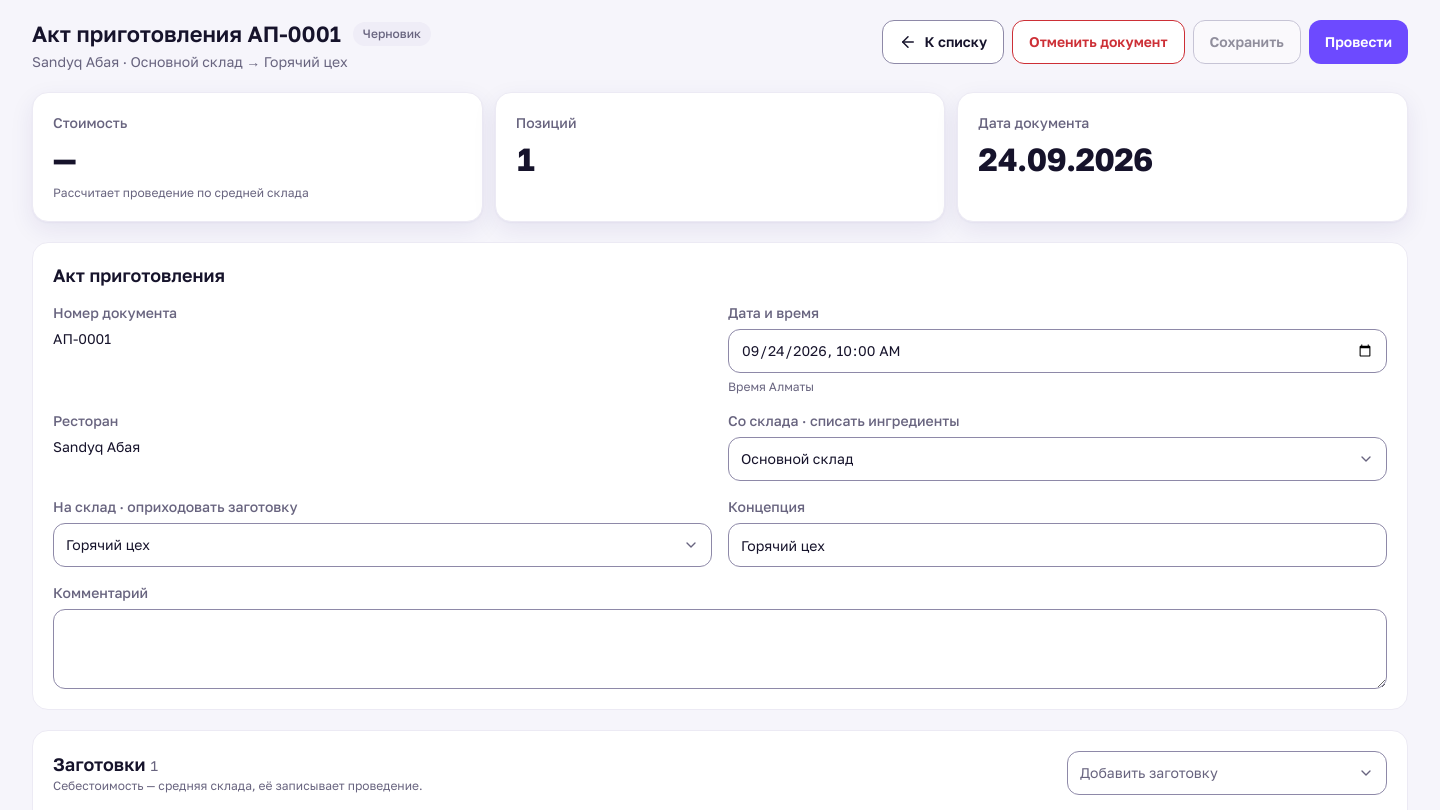
Test: «Акты приготовления» (W2-PRD-03) › a shortage opens the confirmation; «Провести с отрицательным остатком» repeats with confirmShortage
Expected: the heading "Акт приготовления АП-0001" is shown, [32,20,341,48]
Click the button "Провести".
click(1358, 42)  # box [1309,20,1408,64]
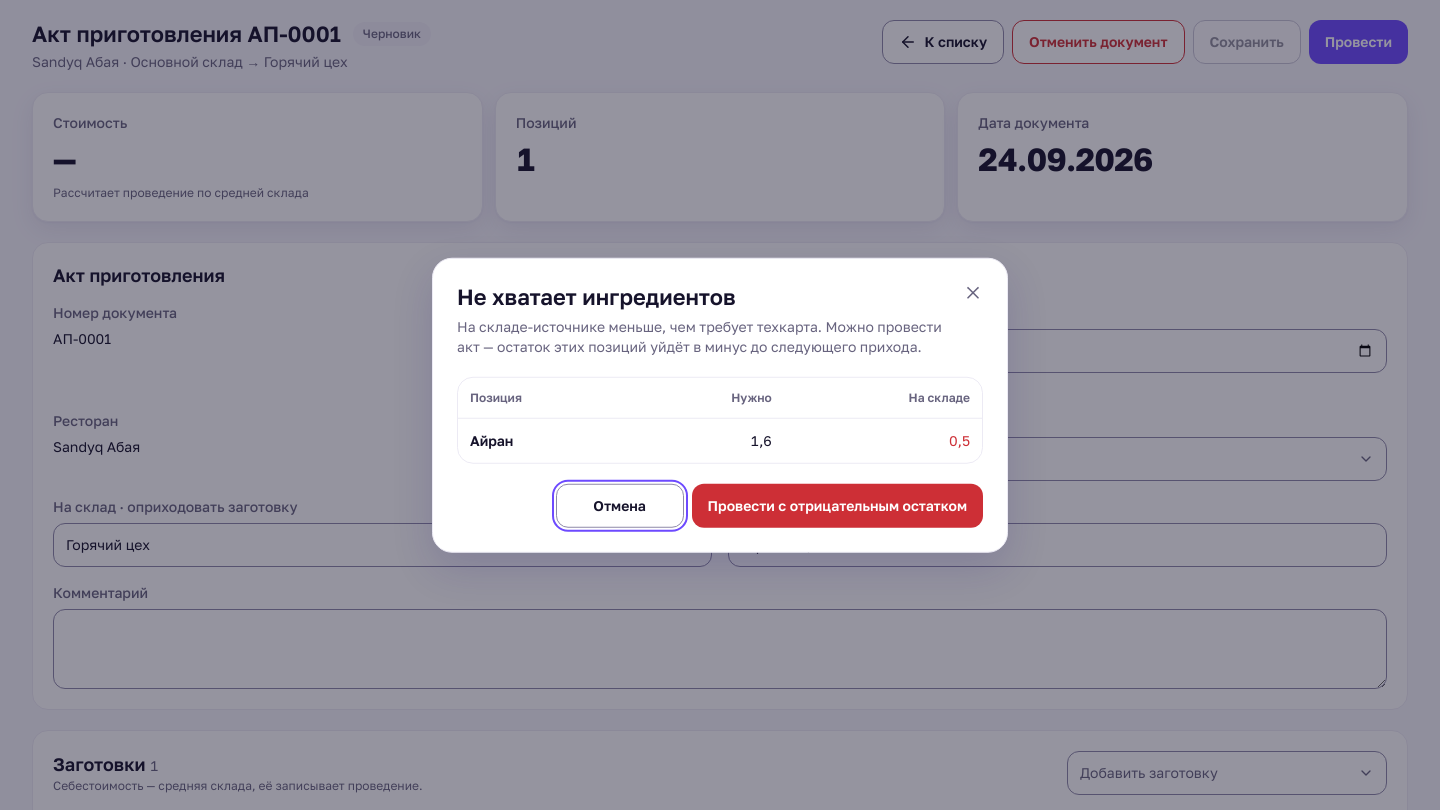
Now the rows read "ПозицияНужноНа складе", "Айран1,60,5", in this order, box [458,378,982,418]; [458,418,982,462]
Click the button "Провести с отрицательным остатком".
click(837, 505)  # box [692,483,983,527]
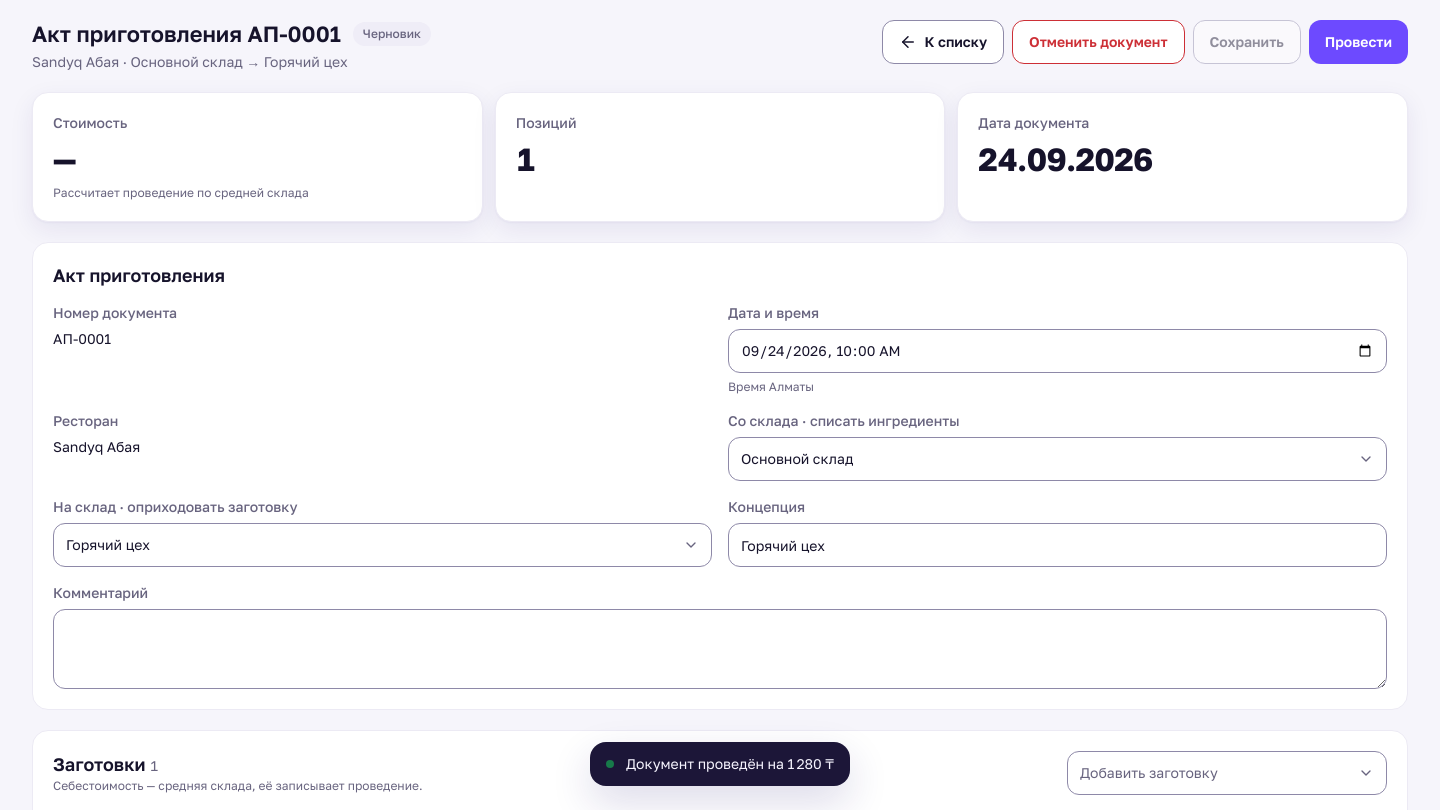
Now the heading "Не хватает ингредиентов" is gone
